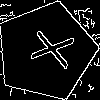X: (21, 26, 75, 70)
